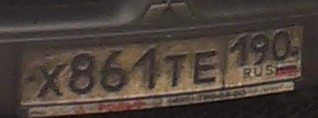character: (33, 60, 67, 101), (131, 46, 159, 94), (101, 49, 129, 94), (70, 52, 96, 97), (164, 50, 188, 88), (193, 47, 217, 84), (251, 30, 270, 65), (271, 29, 291, 62), (230, 33, 248, 68)
